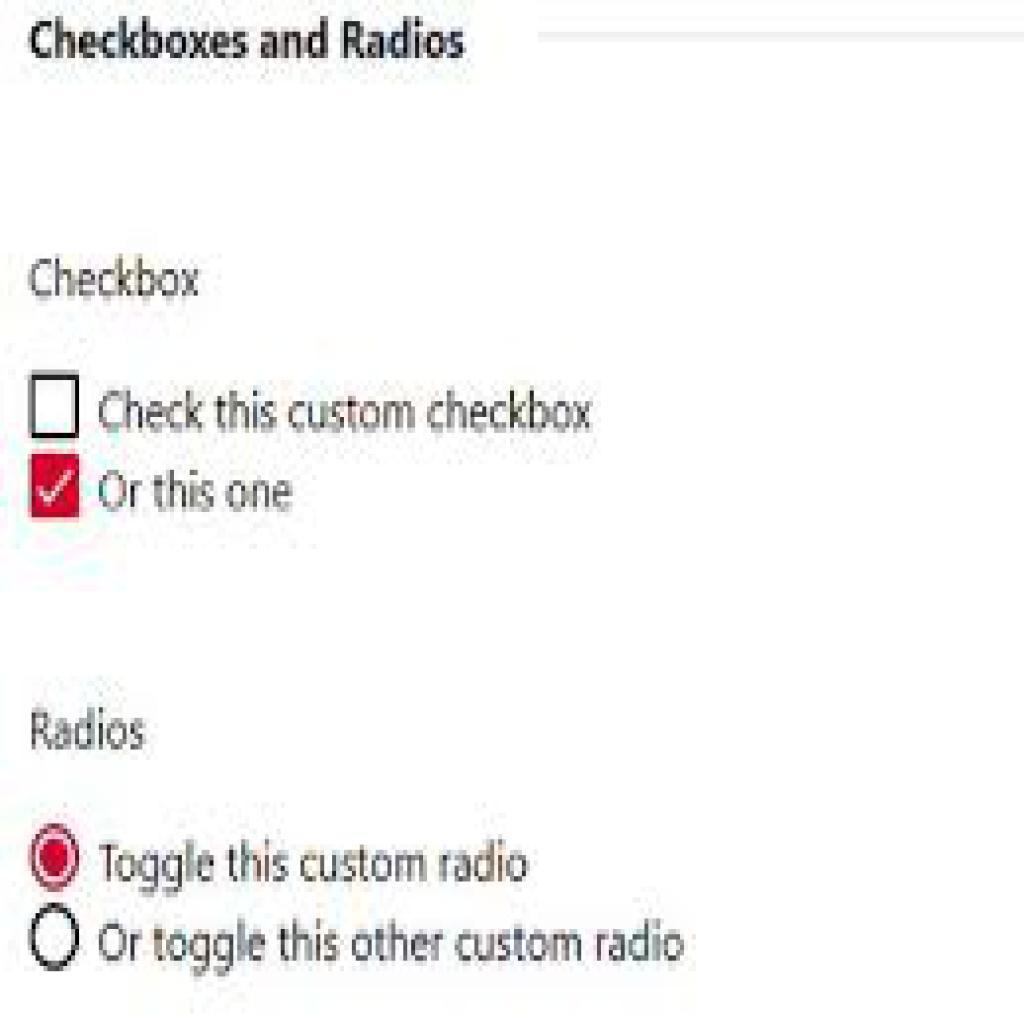checkbox: (30, 373, 81, 443), (28, 454, 81, 520)
radio: (31, 821, 85, 891), (27, 906, 81, 975)
